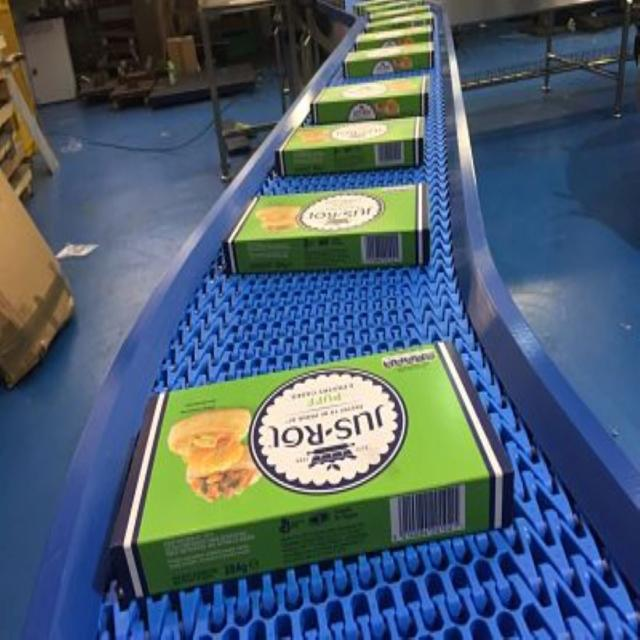food: (93, 337, 516, 602), (223, 180, 431, 275), (276, 115, 426, 177), (309, 74, 429, 124)
